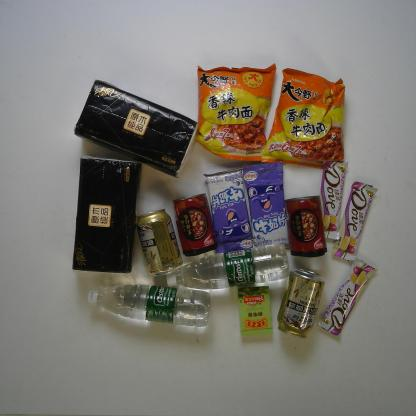Alcohol: (276, 266, 326, 340), (135, 207, 184, 279)
Candy: (241, 160, 292, 254), (202, 166, 255, 256), (236, 285, 274, 337)
Canned Food: (171, 190, 220, 258), (280, 192, 329, 258)
Chocolate: (317, 257, 378, 337), (329, 180, 379, 262), (316, 159, 349, 242)
Drink: (164, 242, 292, 292), (85, 282, 213, 329)
Instant Noodles: (260, 65, 348, 172), (192, 60, 278, 164)
Tissue: (72, 77, 201, 181), (69, 154, 144, 275)
